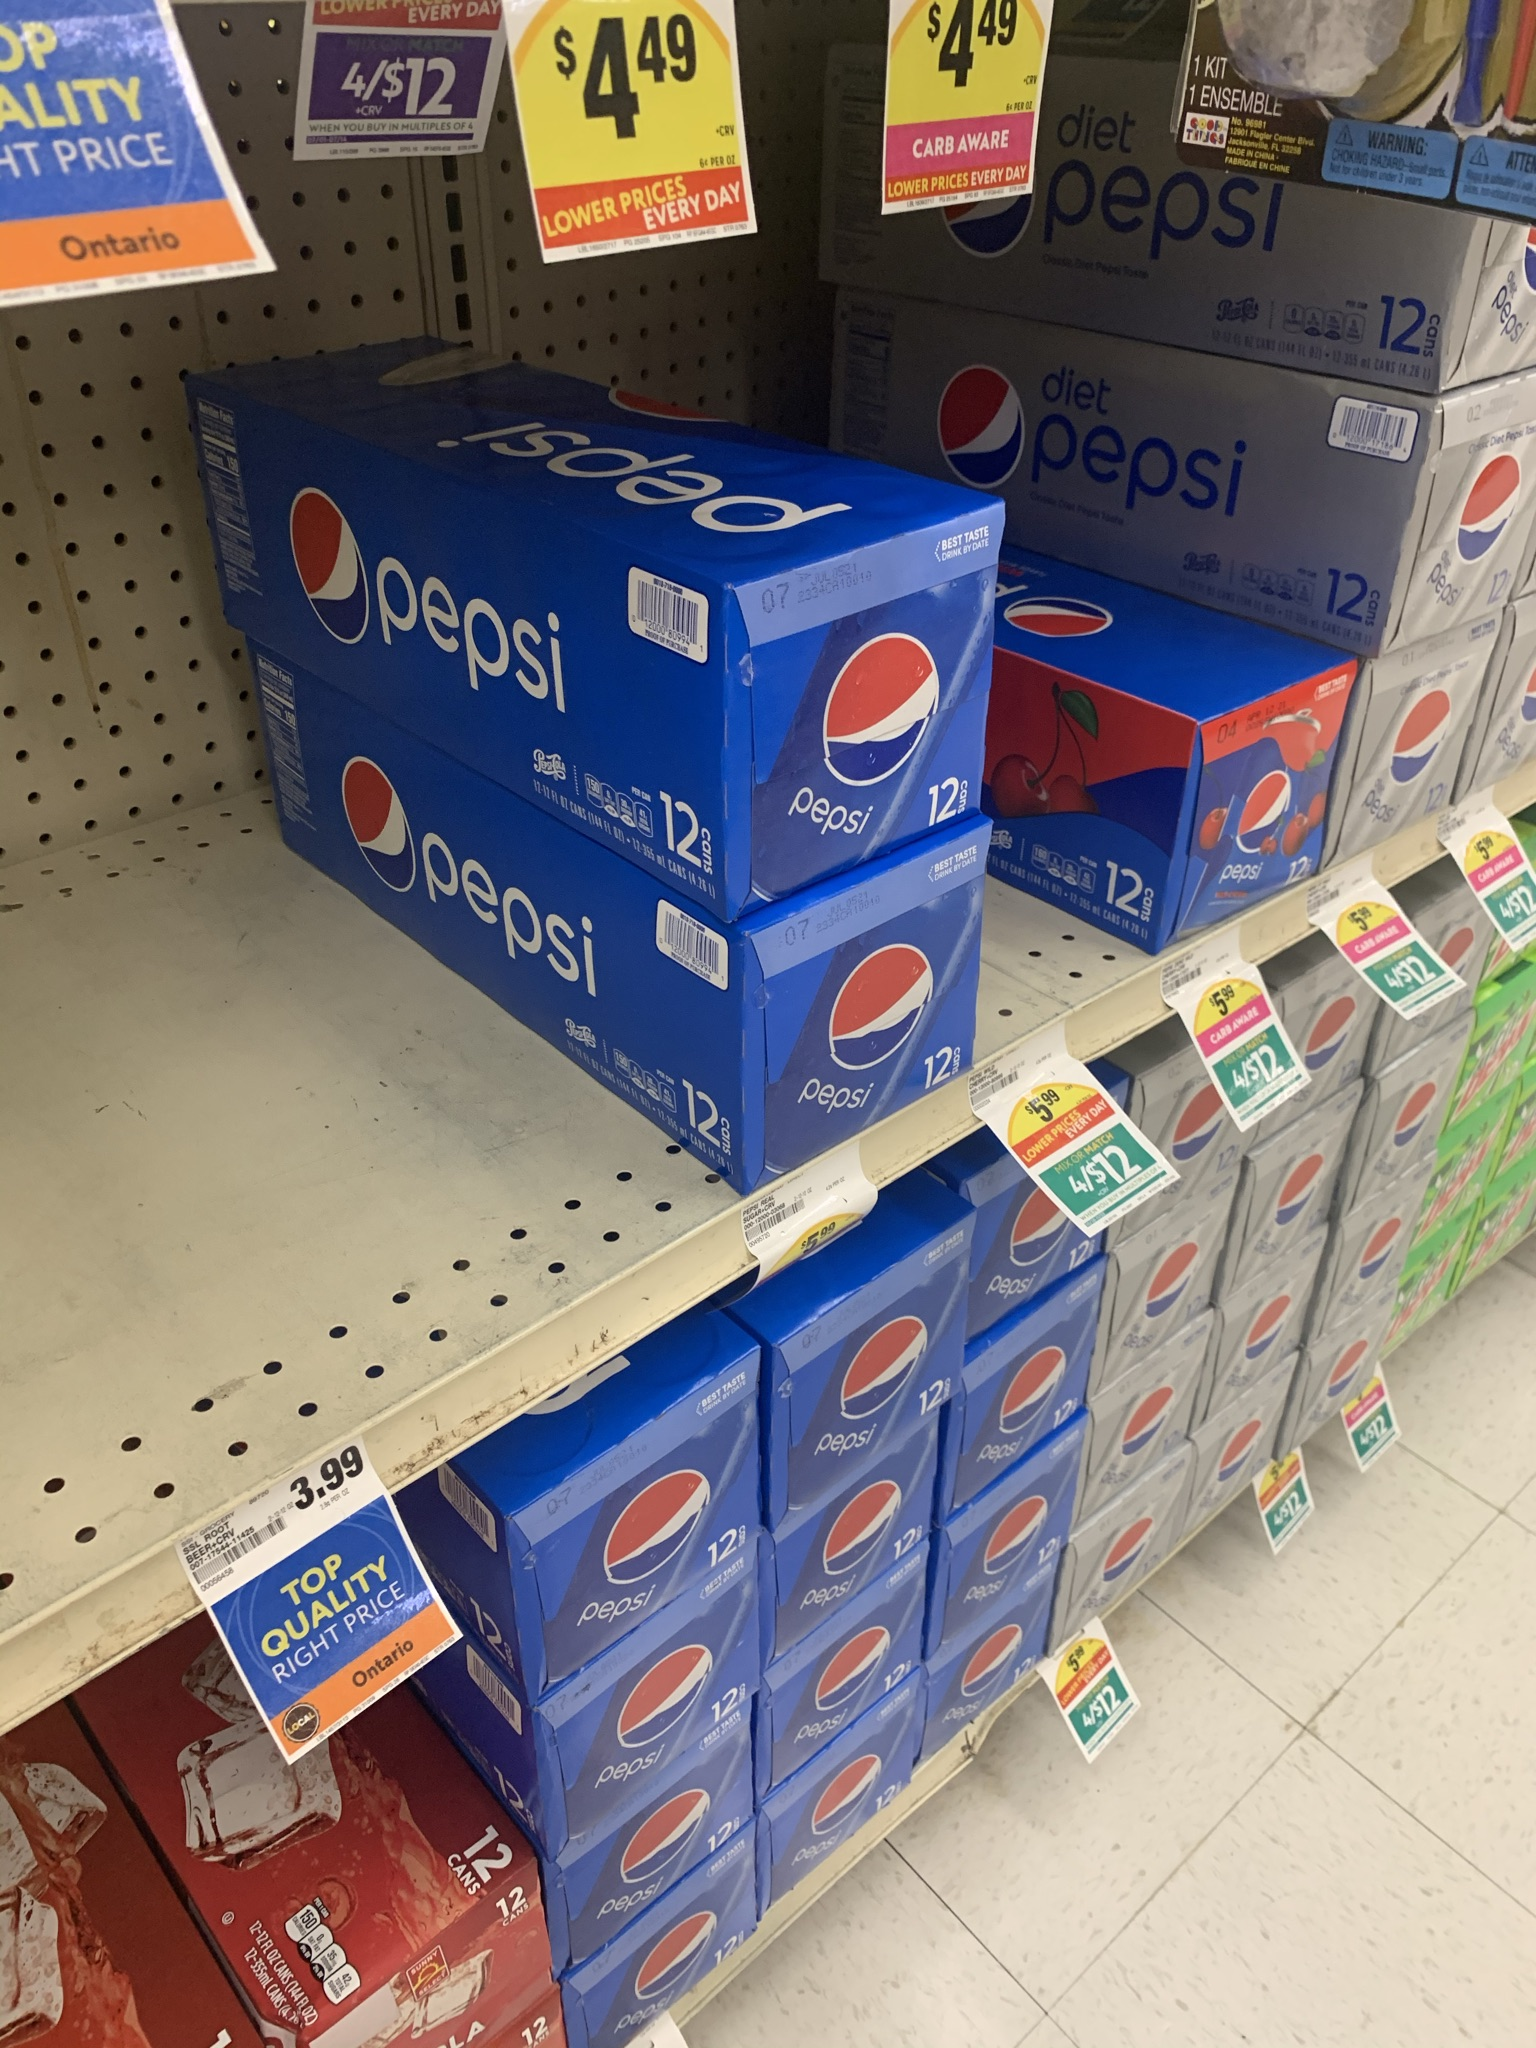pepsi soda: (1149, 1079, 1383, 1480), (779, 1342, 934, 1825), (716, 571, 994, 814), (574, 1680, 742, 1988), (979, 1205, 1079, 1680), (742, 948, 989, 1121), (1192, 716, 1334, 884), (1417, 390, 1517, 593), (511, 1534, 744, 1605), (1368, 666, 1471, 824)
